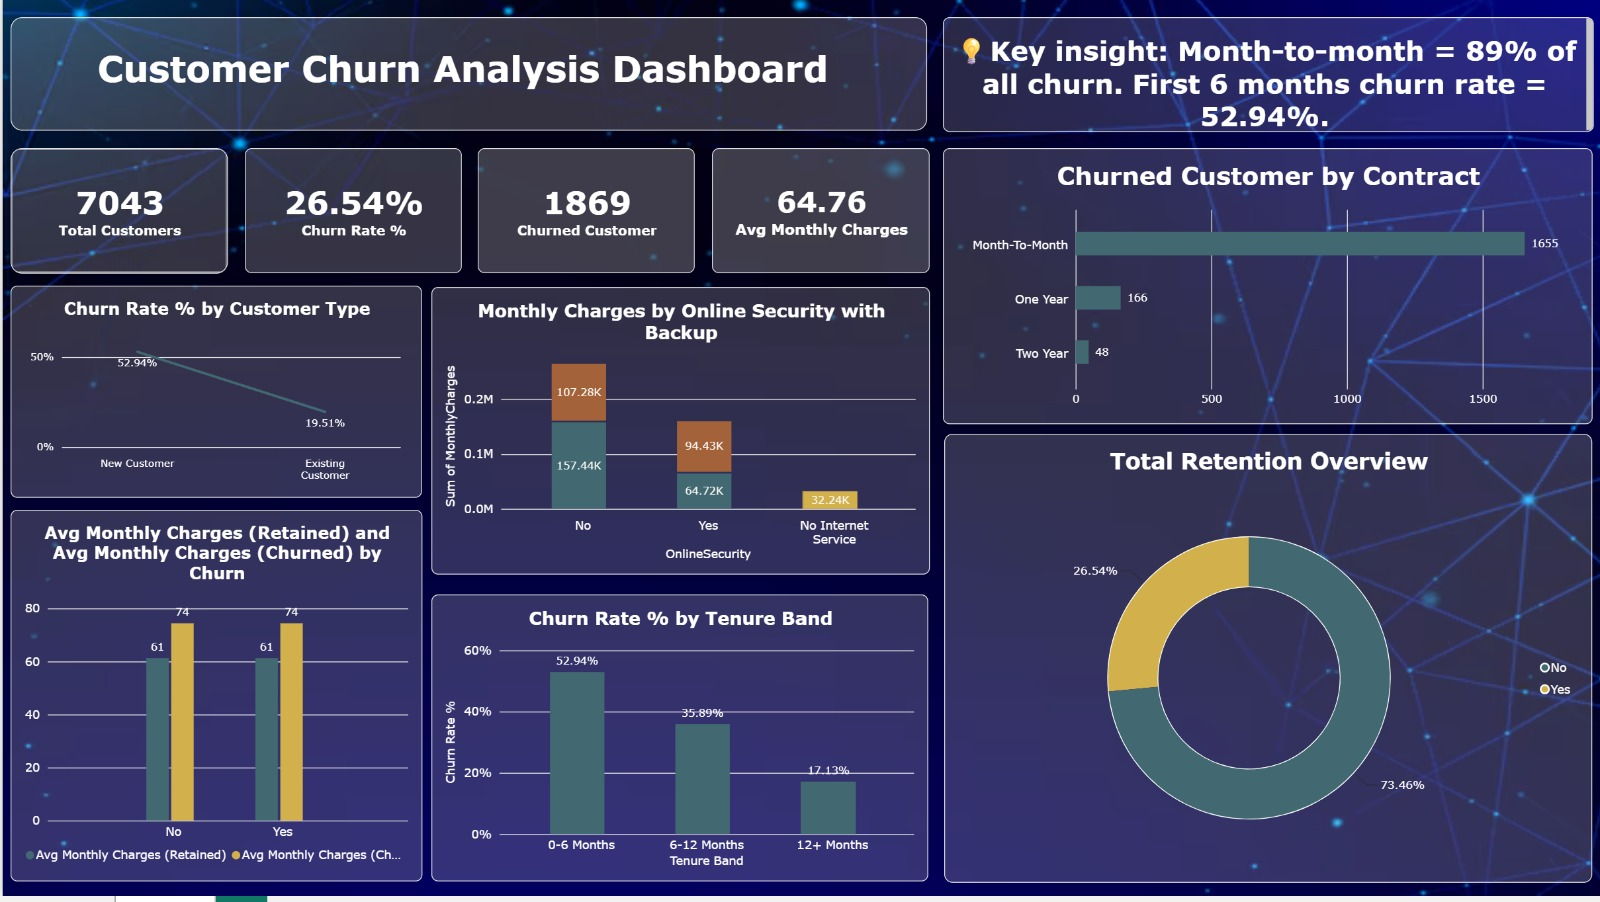

The dashboard page shown, as its layout file describes it:
{"tool":"powerbi","page":{"name":"Page 1","canvas":[1920,1080],"ordinal":0},"visuals":[{"type":"textbox","box":[9.6,26.8,1097.7,135.8],"z":0},{"type":"textbox","box":[10,290,280,280],"z":1000},{"type":"textbox","box":[10,580,280,280],"z":2000},{"type":"textbox","box":[10,870,280,210],"z":3000},{"type":"treemap","title":"Retained Customers by Risk Type","fields":{"Group":["telco_churn_unclean.Risk Type"],"Values":["Calculated Measure.Retained Customers"]},"box":[1124.5,26.8,780.2,135.8],"z":4000},{"type":"cardVisual","fields":{"Data":["Calculated Measure.Total Customers"]},"box":[9.6,183.6,351.9,151.1],"z":5000},{"type":"cardVisual","fields":{"Data":["Calculated Measure.Churn Rate %"]},"box":[382.5,183.6,351.9,151.1],"z":6000},{"type":"cardVisual","fields":{"Data":["Calculated Measure.Churned Customer"]},"box":[755.4,183.6,351.9,151.1],"z":7000},{"type":"donutChart","title":"Total Retention Overview","fields":{"Category":["telco_churn_unclean.Churn"],"Y":["Calculated Measure.Total Customers"]},"box":[1128.3,525.9,776.4,537.4],"z":8000},{"type":"clusteredBarChart","title":"Churned Customer by Contract","fields":{"Category":["telco_churn_unclean.Contract"],"Y":["Calculated Measure.Churned Customer"]},"box":[1126.4,183.6,778.3,330.8],"z":9000},{"type":"columnChart","title":"Monthly Charges by Online Security with Backup","fields":{"Category":["telco_churn_unclean.OnlineSecurity"],"Series":["telco_churn_unclean.OnlineBackup"],"Y":["Sum(telco_churn_unclean.MonthlyCharges)"]},"box":[514.4,350,596.7,344.2],"z":10000},{"type":"columnChart","fields":{"Category":["telco_churn_unclean.Tenure Band"],"Y":["Calculated Measure.Churn Rate %"]},"box":[514.4,719,594.7,344.2],"z":10001},{"type":"clusteredColumnChart","fields":{"Category":["telco_churn_unclean.Churn"],"Y":["Calculated Measure.Avg Monthly Charges (Retained)","Calculated Measure.Avg Monthly Charges (Churned)"]},"box":[9.6,617.7,493.4,445.6],"z":10002},{"type":"lineChart","fields":{"Category":["telco_churn_unclean.Customer Type"],"Y":["Sum(telco_churn_unclean.MonthlyCharges)"]},"box":[9.3,348.8,493,253.5],"z":10003}]}

Visuals, with their boxes in screenshot pixels (x1, y1, x2, y2), scaled from the page's 1920x1080 canvas onto the 1600x902 screenshot:
textbox: <bbox>8, 22, 923, 136</bbox>
textbox: <bbox>8, 242, 242, 476</bbox>
textbox: <bbox>8, 484, 242, 718</bbox>
textbox: <bbox>8, 727, 242, 901</bbox>
"Retained Customers by Risk Type" treemap: <bbox>937, 22, 1587, 136</bbox>
cardVisual - Calculated Measure.Total Customers: <bbox>8, 153, 301, 280</bbox>
cardVisual - Calculated Measure.Churn Rate %: <bbox>319, 153, 612, 280</bbox>
cardVisual - Calculated Measure.Churned Customer: <bbox>630, 153, 923, 280</bbox>
"Total Retention Overview" donutChart: <bbox>940, 439, 1587, 888</bbox>
"Churned Customer by Contract" clusteredBarChart: <bbox>939, 153, 1587, 430</bbox>
"Monthly Charges by Online Security with Backup" columnChart: <bbox>429, 292, 926, 580</bbox>
columnChart - telco_churn_unclean.Tenure Band x Calculated Measure.Churn Rate %: <bbox>429, 600, 924, 888</bbox>
clusteredColumnChart - telco_churn_unclean.Churn x Calculated Measure.Avg Monthly Charges (Retained): <bbox>8, 516, 419, 888</bbox>
lineChart - telco_churn_unclean.Customer Type x Sum(telco_churn_unclean.MonthlyCharges): <bbox>8, 291, 419, 503</bbox>
